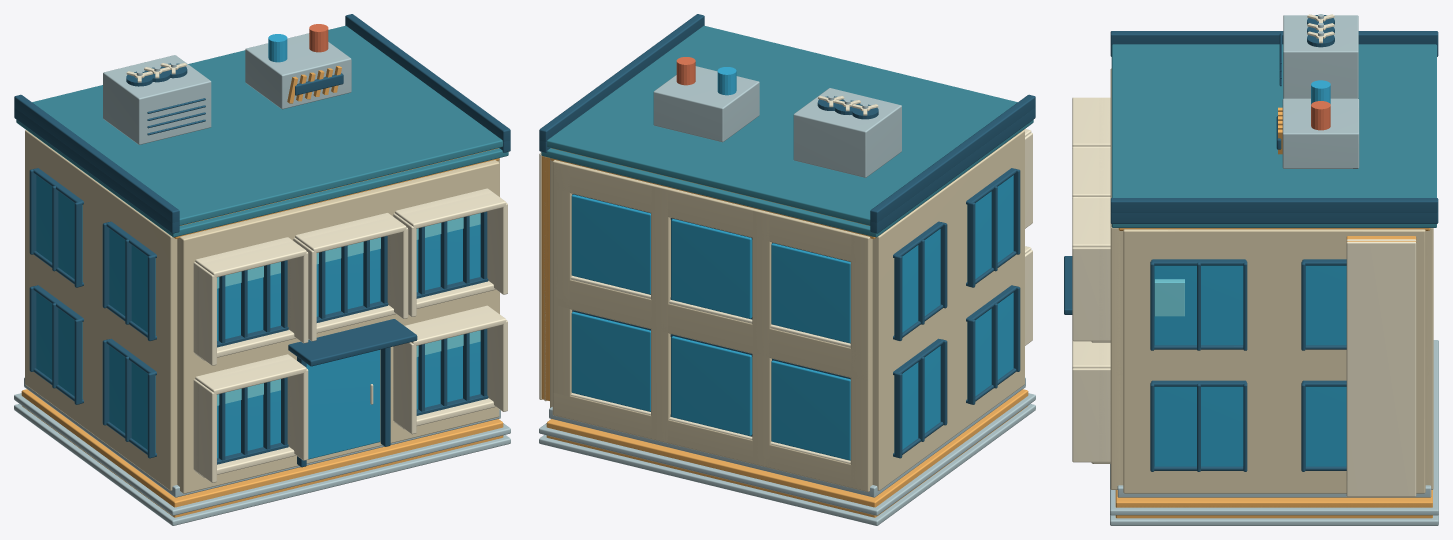
File: building.glb
3 renders of one model, left to right at view 1: azimuth 30°, elevation 25°; view 2: azimuth 150°, elevation 25°; view 3: azimuth 270°, elevation 25°, orthographic. The views are drawn at different scales.
Parts seen in each view (by area): view 1: Roof finish, Side wall, Facade backing, Entrance glass, Ventilation housing, Foundation insulation, Foundation edge.001, Foundation edge, Recovery housing, Roof finish.001, Entrance canopy, Roof coping (+50 smaller); view 2: Roof finish, Side wall, Horizontal facade.003, Horizontal facade.005, Horizontal facade.001, Ventilation housing, Glass pane.011, Glass pane.014, Glass pane.010, Glass pane.013, Glass pane.015, Glass pane.012 (+37 smaller); view 3: Roof finish, Side wall.001, Wall exterior skin, Side glass.002, Side glass.006, Ventilation housing, Recovery housing, Roof coping.001, Foundation insulation, Foundation edge.001, Roof coping.003, Roof coping (+32 smaller).
Boxes of the visible parts, box(x1,y1,x2,y2) form: Roof finish: box(32, 25, 502, 225); Side wall: box(25, 130, 177, 490); Facade backing: box(178, 160, 499, 493); Entrance glass: box(306, 350, 380, 459); Ventilation housing: box(103, 55, 211, 144); Foundation insulation: box(21, 389, 503, 517); Foundation edge.001: box(14, 393, 510, 515); Foundation edge: box(14, 404, 510, 525); Recovery housing: box(245, 33, 351, 109); Roof finish.001: box(16, 120, 508, 237); Entrance canopy: box(288, 319, 417, 366); Roof coping: box(14, 94, 179, 222); Roof finish: box(547, 25, 1017, 225); Side wall: box(872, 130, 1024, 490); Horizontal facade.003: box(553, 279, 872, 380); Horizontal facade.005: box(553, 161, 872, 264); Horizontal facade.001: box(553, 392, 872, 491); Ventilation housing: box(793, 88, 901, 177); Glass pane.011: box(671, 336, 752, 435); Glass pane.014: box(671, 219, 752, 318); Glass pane.010: box(771, 360, 850, 460); Glass pane.013: box(771, 243, 850, 343); Glass pane.015: box(571, 194, 650, 294); Glass pane.012: box(571, 311, 650, 411); Roof finish: box(1111, 44, 1436, 197); Side wall.001: box(1123, 229, 1425, 493); Wall exterior skin: box(1346, 241, 1416, 496); Side glass.002: box(1154, 386, 1243, 466); Side glass.006: box(1154, 265, 1243, 345); Ventilation housing: box(1283, 15, 1358, 98); Recovery housing: box(1282, 98, 1359, 168); Roof coping.001: box(1110, 198, 1438, 212); Foundation insulation: box(1115, 490, 1432, 518); Foundation edge.001: box(1110, 340, 1438, 515); Roof coping.003: box(1110, 212, 1438, 223); Roof coping: box(1110, 31, 1438, 45).
Size of the model in its own units: 3.63 by 3.57 by 3.22.
